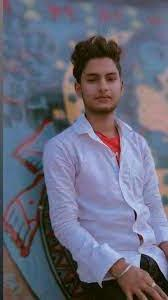Human: (44, 31, 167, 300)
